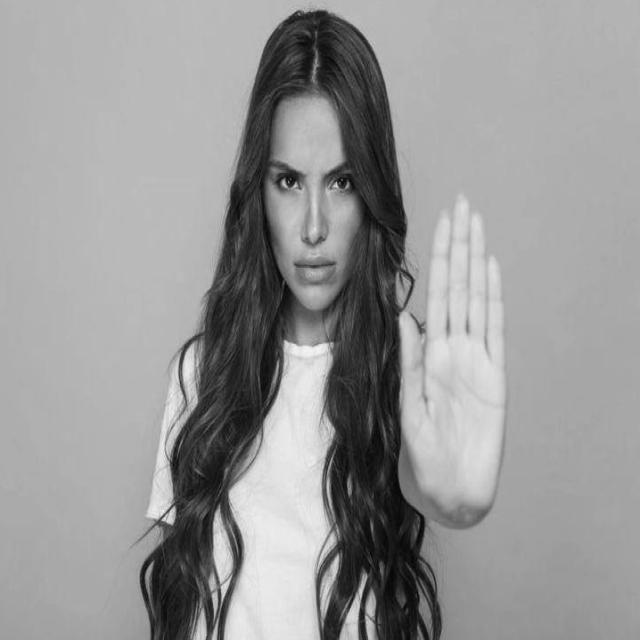stop: (394, 185, 512, 532)
